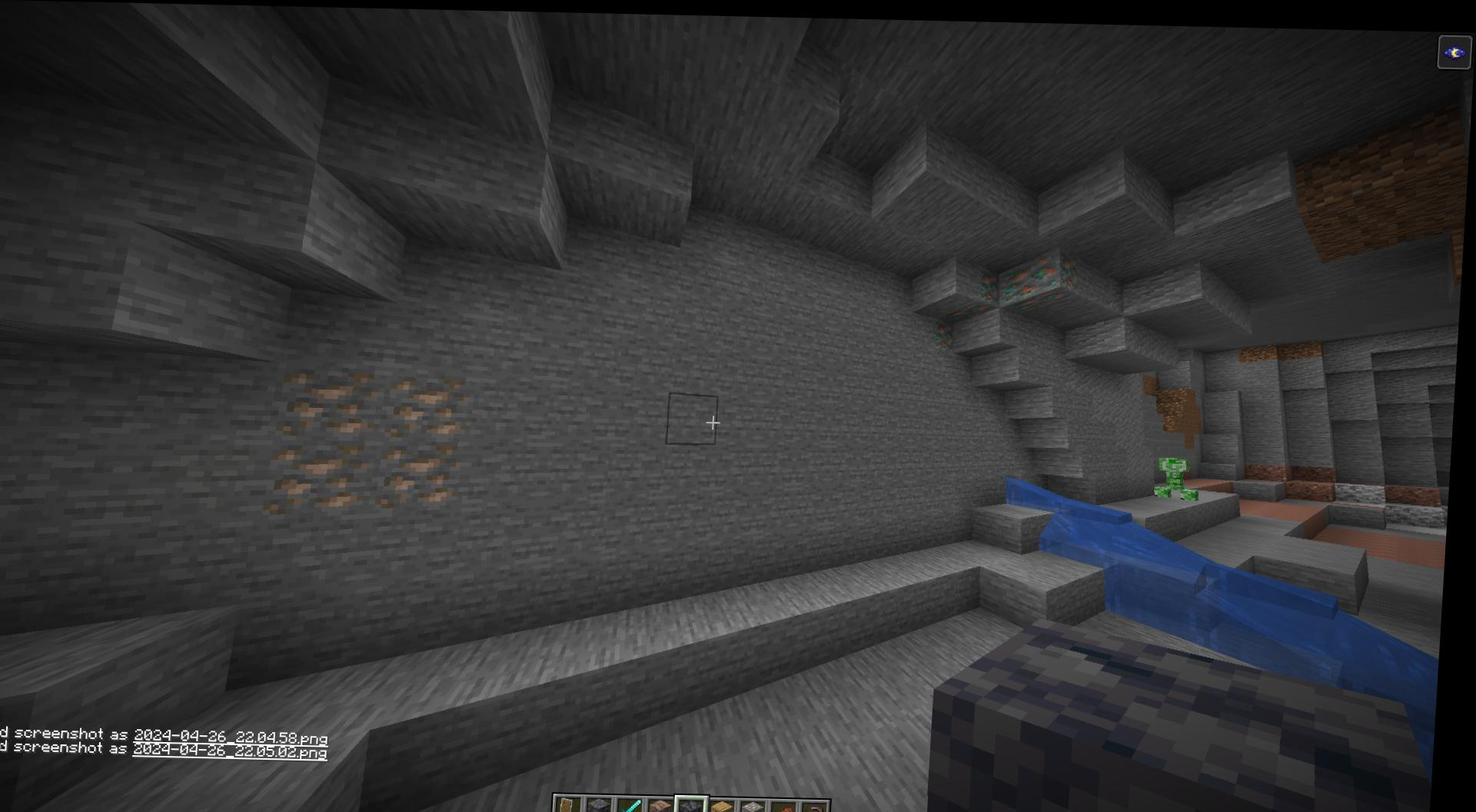iron ore: (280, 360, 380, 440), (377, 435, 463, 514), (379, 365, 465, 439), (273, 439, 369, 505)
